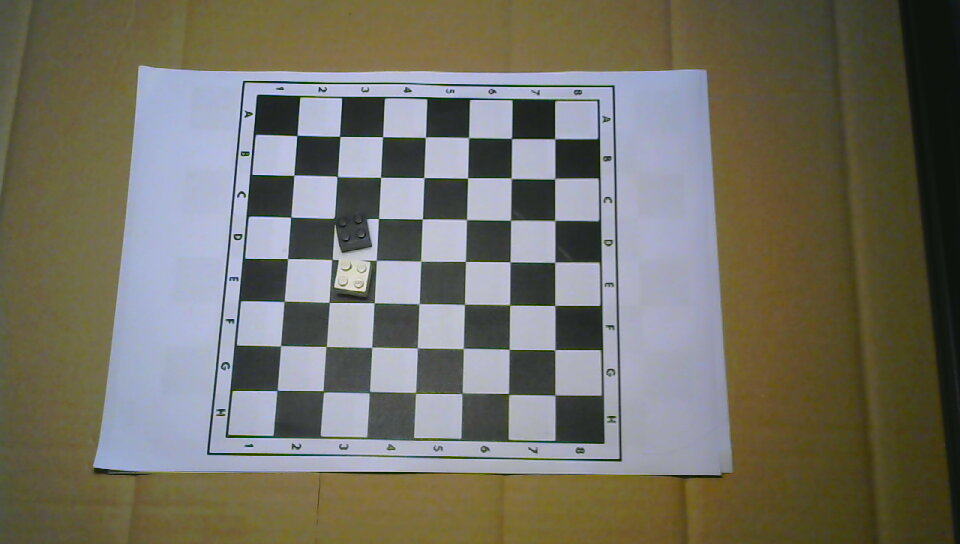bp: (333, 212, 373, 253)
wp: (334, 255, 373, 298)
